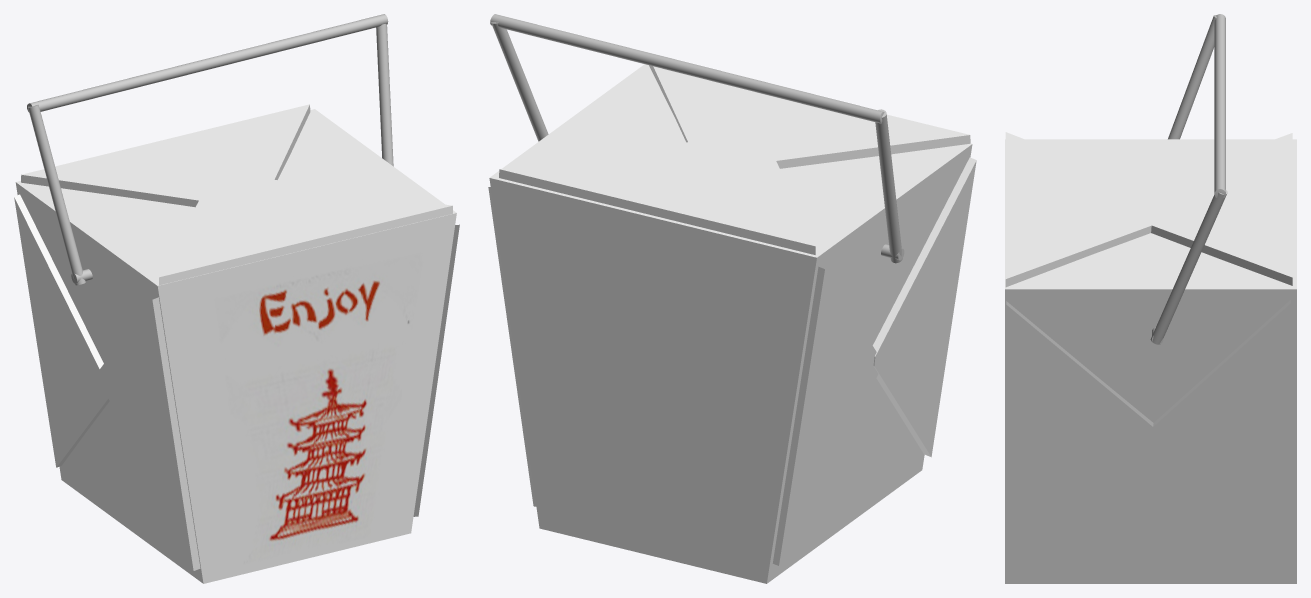
File: chineseTakeOut.fbx
The picture shows the model from 3 angles, left to right: view 1: azimuth 30°, elevation 25°; view 2: azimuth 150°, elevation 25°; view 3: azimuth 270°, elevation 25°; orthographic projection. The views are drawn at different scales.
Visible parts, largest first — view 1: pCube1, pCube2, pCube3, pCube6, pCube7, polySurface1, pCube4; view 2: pCube1, pCube3, pCube2, pCube6, pCube7, polySurface1, pCube5; view 3: pCube1, pCube4, pCube5, pCube2, pCube3, polySurface1.
Boxes of the visible parts, bbox=[...] form: pCube1: bbox=[15, 109, 456, 583]; pCube2: bbox=[159, 177, 452, 285]; pCube3: bbox=[21, 104, 310, 207]; pCube6: bbox=[98, 297, 200, 570]; pCube7: bbox=[14, 194, 109, 467]; polySurface1: bbox=[27, 14, 393, 285]; pCube4: bbox=[413, 224, 459, 516]; pCube1: bbox=[489, 64, 972, 583]; pCube3: bbox=[499, 138, 815, 254]; pCube2: bbox=[649, 65, 970, 168]; pCube6: bbox=[872, 157, 976, 457]; pCube7: bbox=[772, 266, 878, 565]; polySurface1: bbox=[490, 14, 904, 263]; pCube5: bbox=[488, 187, 536, 506]; pCube1: bbox=[1005, 139, 1296, 583]; pCube4: bbox=[1006, 301, 1157, 572]; pCube5: bbox=[1141, 300, 1290, 570]; pCube2: bbox=[1005, 132, 1168, 287]; pCube3: bbox=[1130, 133, 1292, 285]; polySurface1: bbox=[1150, 14, 1227, 344].
Bounding box in the file's own units: 5.22 × 5.88 × 3.58.
